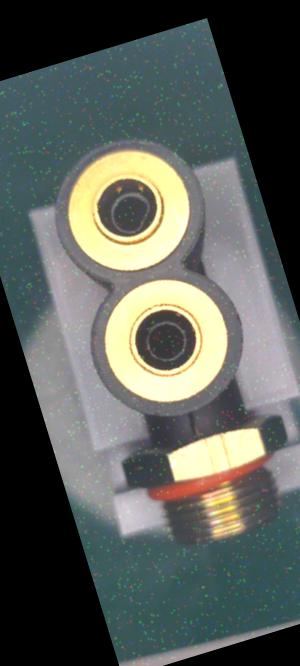craze: (183, 411, 205, 445)
off-centered: (99, 180, 162, 245)
